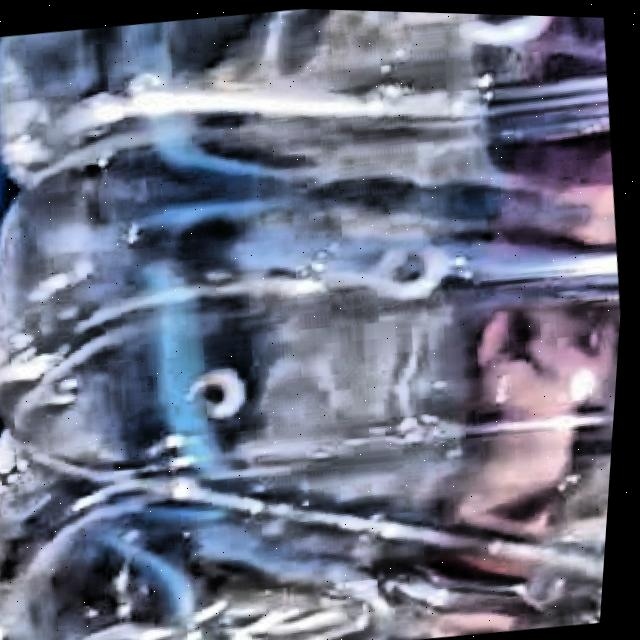plastic: (0, 7, 624, 640)
